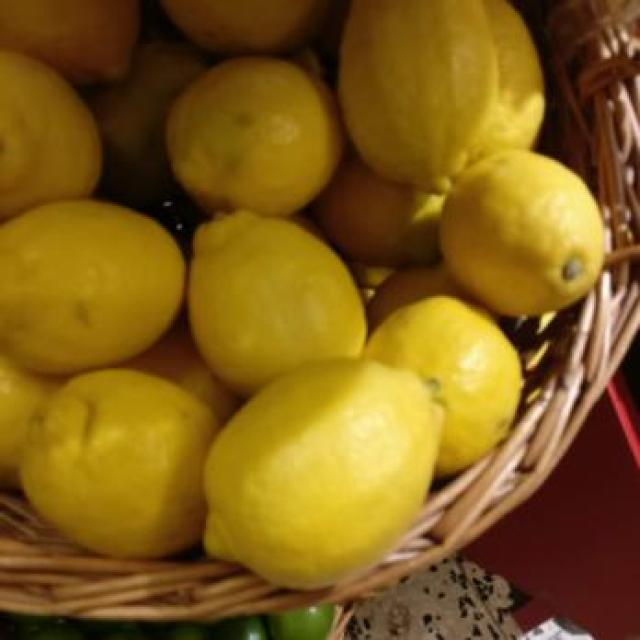lemon: (204, 359, 440, 588), (339, 0, 545, 192), (20, 369, 216, 557), (189, 210, 366, 394), (0, 200, 184, 372), (365, 296, 522, 475), (365, 296, 522, 474), (166, 58, 341, 215), (442, 150, 604, 315), (86, 45, 206, 207), (0, 50, 101, 221), (312, 159, 445, 266), (119, 320, 240, 424), (161, 1, 330, 52), (0, 355, 60, 488)
